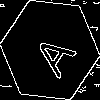A: (25, 25, 78, 79)
